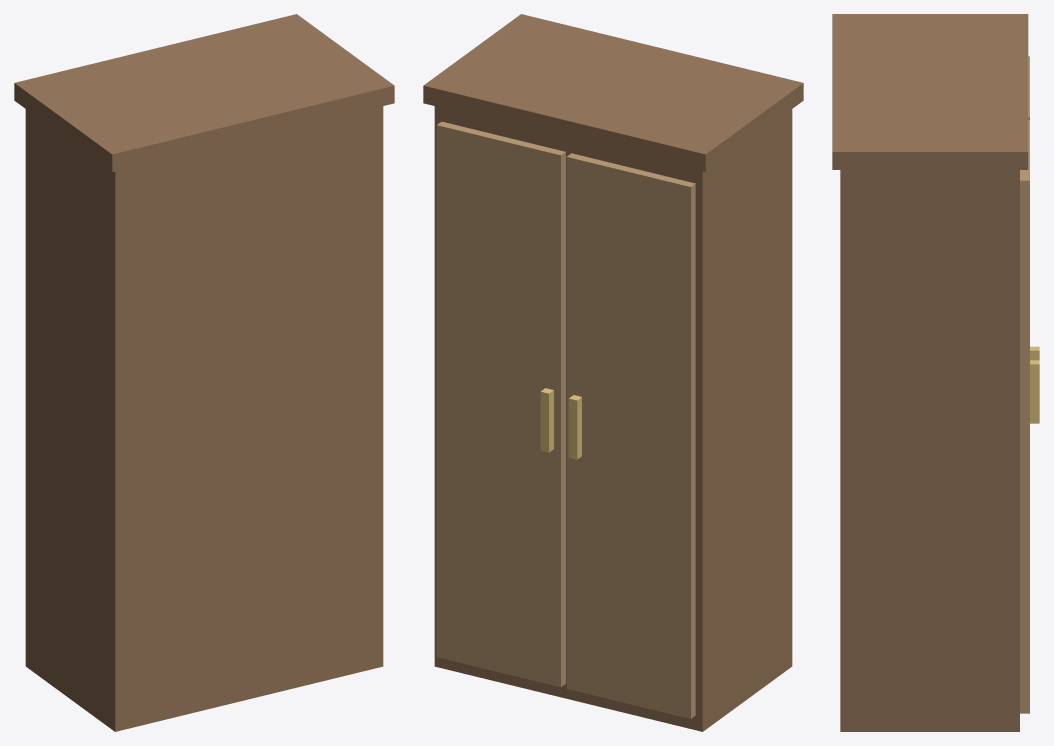
File: wardrobe.glb
3 views of the same model, side by side, from view 1: azimuth 30°, elevation 25°; view 2: azimuth 150°, elevation 25°; view 3: azimuth 270°, elevation 25° (orthographic).
Visible parts, largest first — view 1: wardrobe; view 2: wardrobe; view 3: wardrobe.
Boxes of the visible parts, x1=… form: wardrobe: x1=14, y1=14, x2=394, y2=731; wardrobe: x1=423, y1=14, x2=803, y2=731; wardrobe: x1=832, y1=14, x2=1039, y2=731.
Size of the model in its own units: 1 by 1.97 by 0.635.
